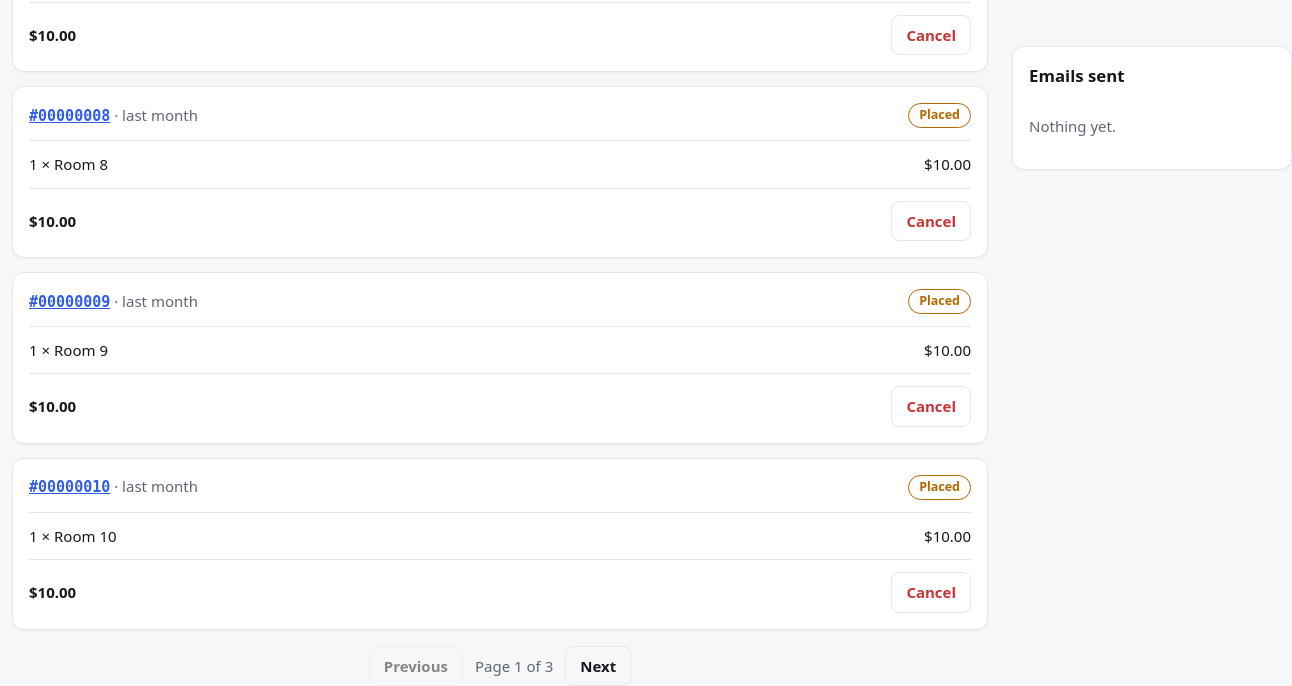
Test: Orders filters, search and pagination › shows ten orders a page and pages with Previous and Next
This screenshot has width=1292, height=686.
(page scrolled)
Check: the navigation bar named "Bookings pages" shows "Page 1 of 3", box x1=369 y1=646 x2=631 y2=685
Check: the button "Previous" is disabled, box x1=369 y1=646 x2=463 y2=685
Click the button "Next": point(598, 666) x1=565 y1=646 x2=631 y2=685
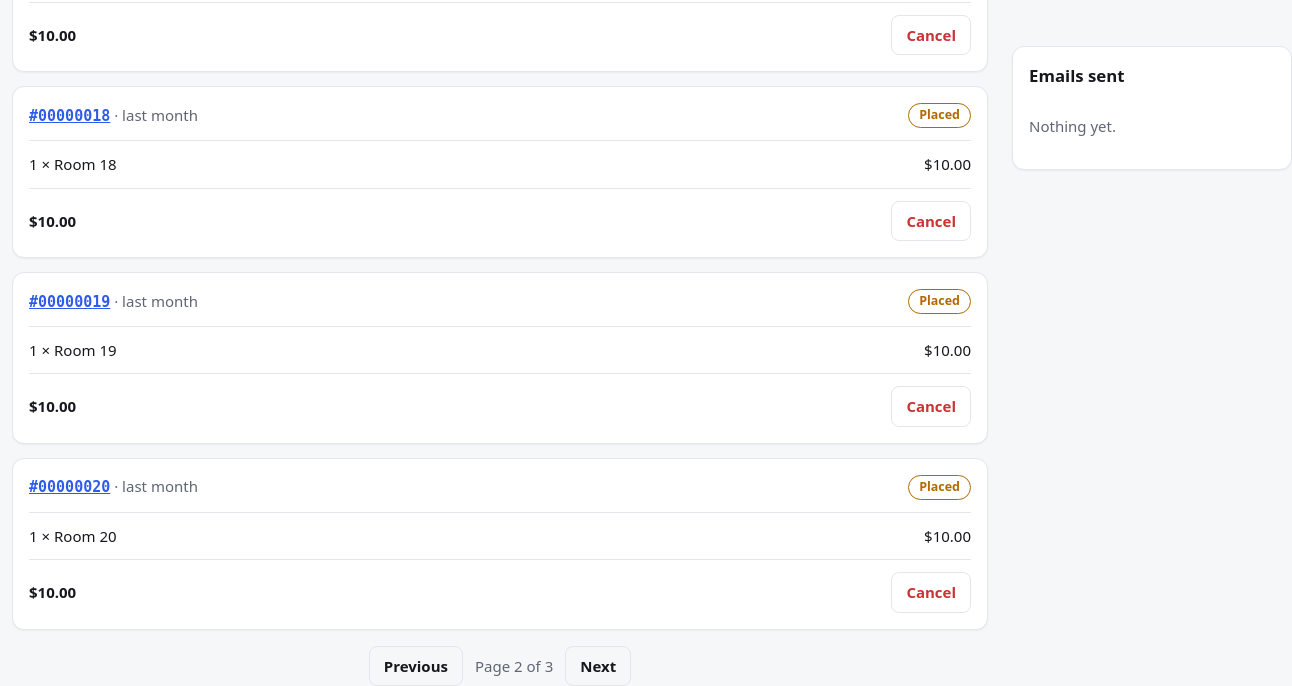
Click the button "Next": point(598, 666) x1=565 y1=646 x2=631 y2=685
(page scrolled)
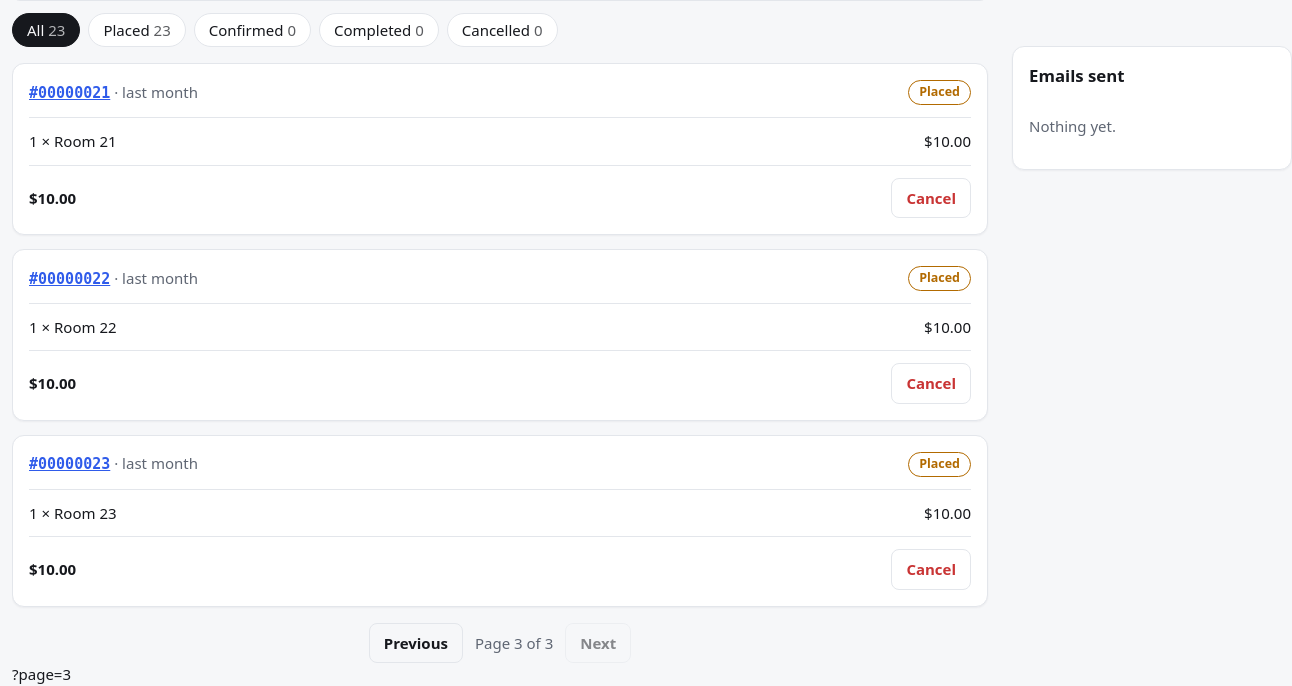
Check: the navigation bar named "Bookings pages" shows "Page 3 of 3", box x1=369 y1=622 x2=631 y2=663
Check: the button "Next" is disabled, box x1=565 y1=622 x2=631 y2=663
Click the button "Previous": point(416, 643) x1=369 y1=622 x2=463 y2=663
(page scrolled)
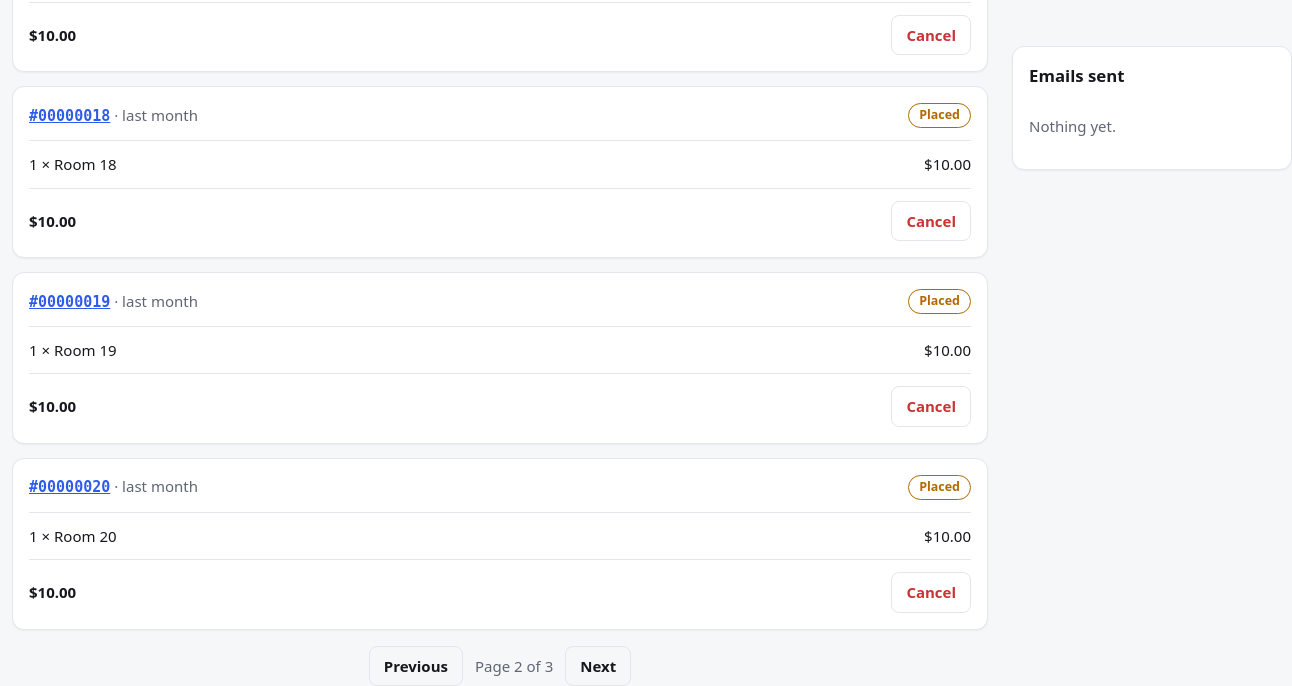
Click the button "Previous": point(416, 666) x1=369 y1=646 x2=463 y2=685
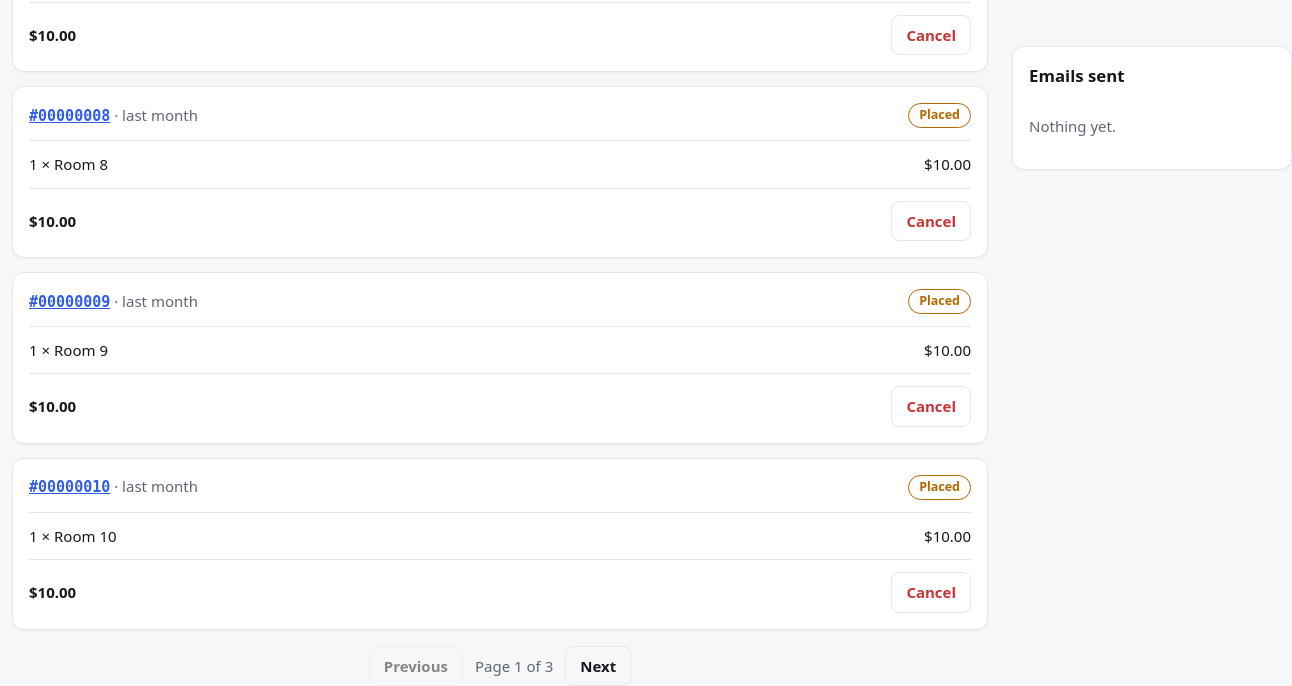
Check: the navigation bar named "Bookings pages" shows "Page 1 of 3", box x1=369 y1=646 x2=631 y2=685
